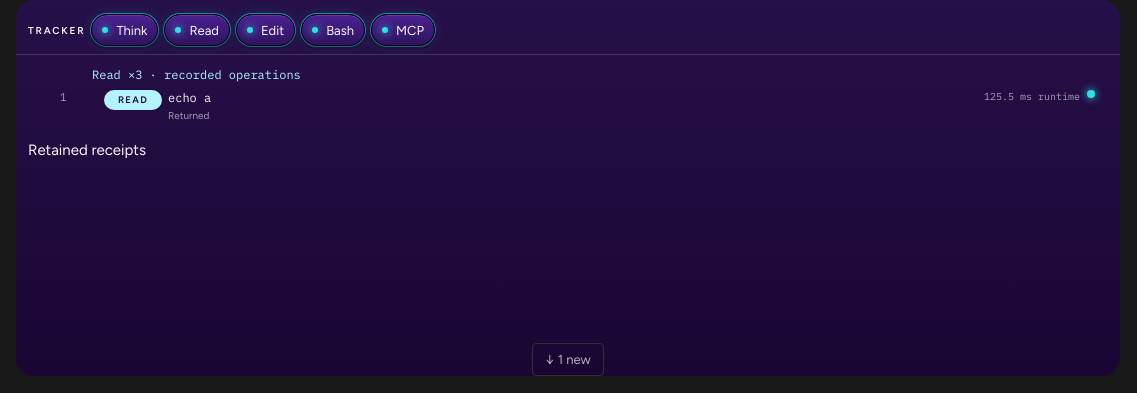
Scenario: shared tracker rendering › counts arrivals inside read groups without counting later results, and retains only failed reads when filtered
The width and height of the screenshot is (1137, 393).
Check: the button "↓ 1 new" is shown, box [532,343,604,376]
Click the button "Read".
click(197, 30)  # box [164,14,230,46]
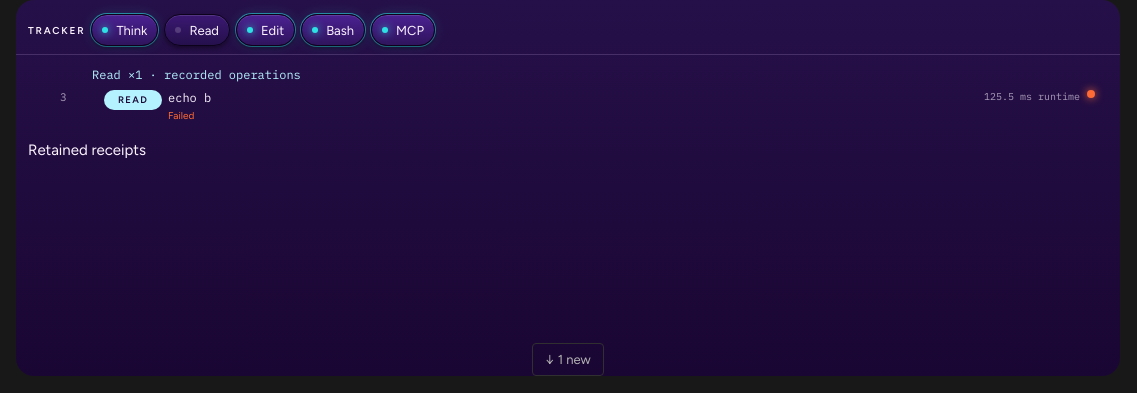
Check: the text "echo c" is not shown
Check: the text "echo a" is gone
Check: the text "echo b" is shown, box [168,90,211,105]
